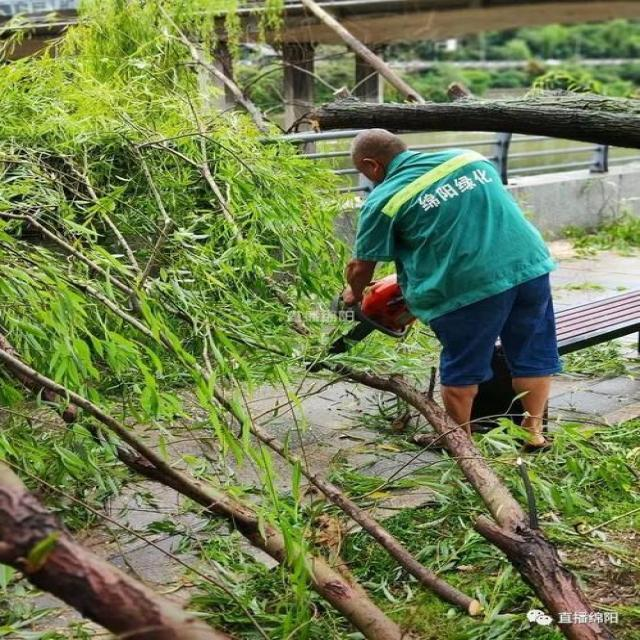fallen_object: (256, 338, 618, 640), (300, 84, 636, 150)
